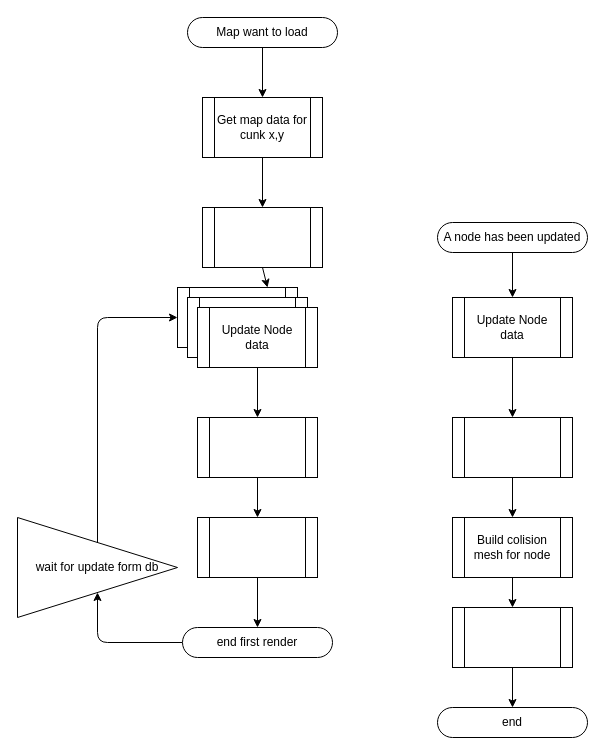
Some shapes in this 605 by 755 pixel diagram are drawn without their labels. The shapes that lost their labels are listed below. From the top down, each one's centre as x and y in pixels, then its label:
At point (262, 237): "Place nodes in grid and apply data".
At point (257, 447): "Build render mesh".
At point (512, 447): "Build render mesh for node".
At point (257, 547): "Build colision mesh".
At point (512, 637): "send update to db".
